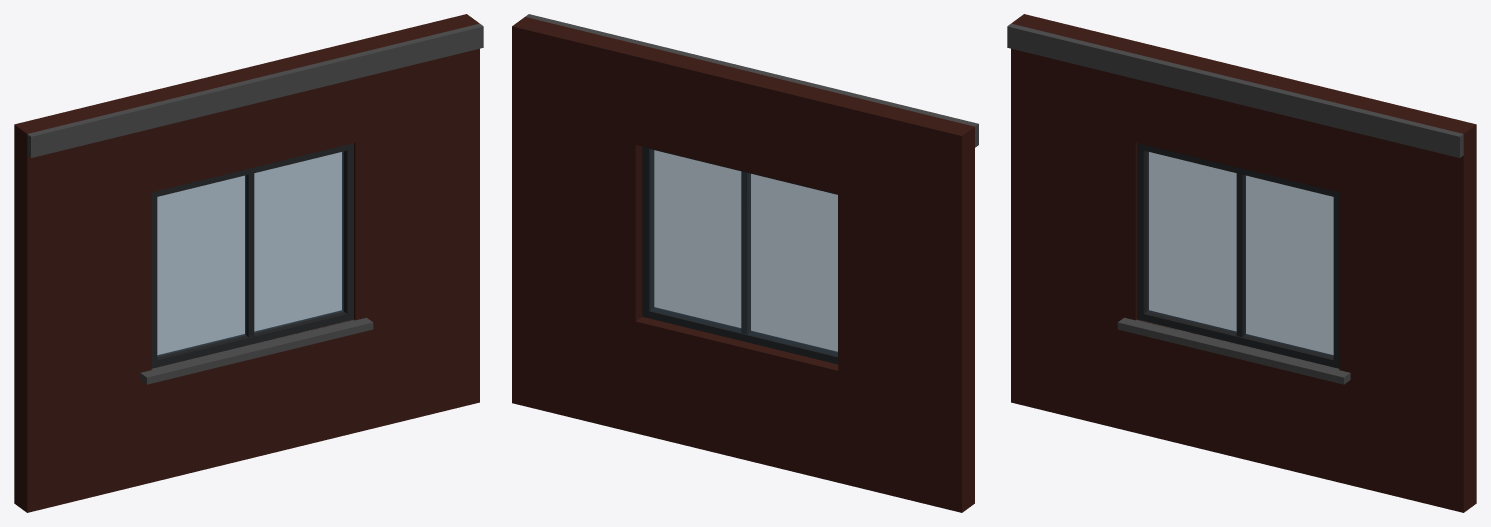
File: KIT_Wall_4m_Window_BrickDark.glb
3 views of the same model, side by side, from view 1: azimuth 30°, elevation 25°; view 2: azimuth 150°, elevation 25°; view 3: azimuth 330°, elevation 25° (orthographic).
Visible parts, largest first — view 1: KIT_Wall_4m_Window_BrickDark; view 2: KIT_Wall_4m_Window_BrickDark; view 3: KIT_Wall_4m_Window_BrickDark.
Boxes of the visible parts, left/top/right/bottom form: KIT_Wall_4m_Window_BrickDark: left=14, top=14, right=483, bottom=512; KIT_Wall_4m_Window_BrickDark: left=512, top=14, right=978, bottom=512; KIT_Wall_4m_Window_BrickDark: left=1007, top=14, right=1476, bottom=512.
Size of the model in its own units: 4 by 3.2 by 0.3.
